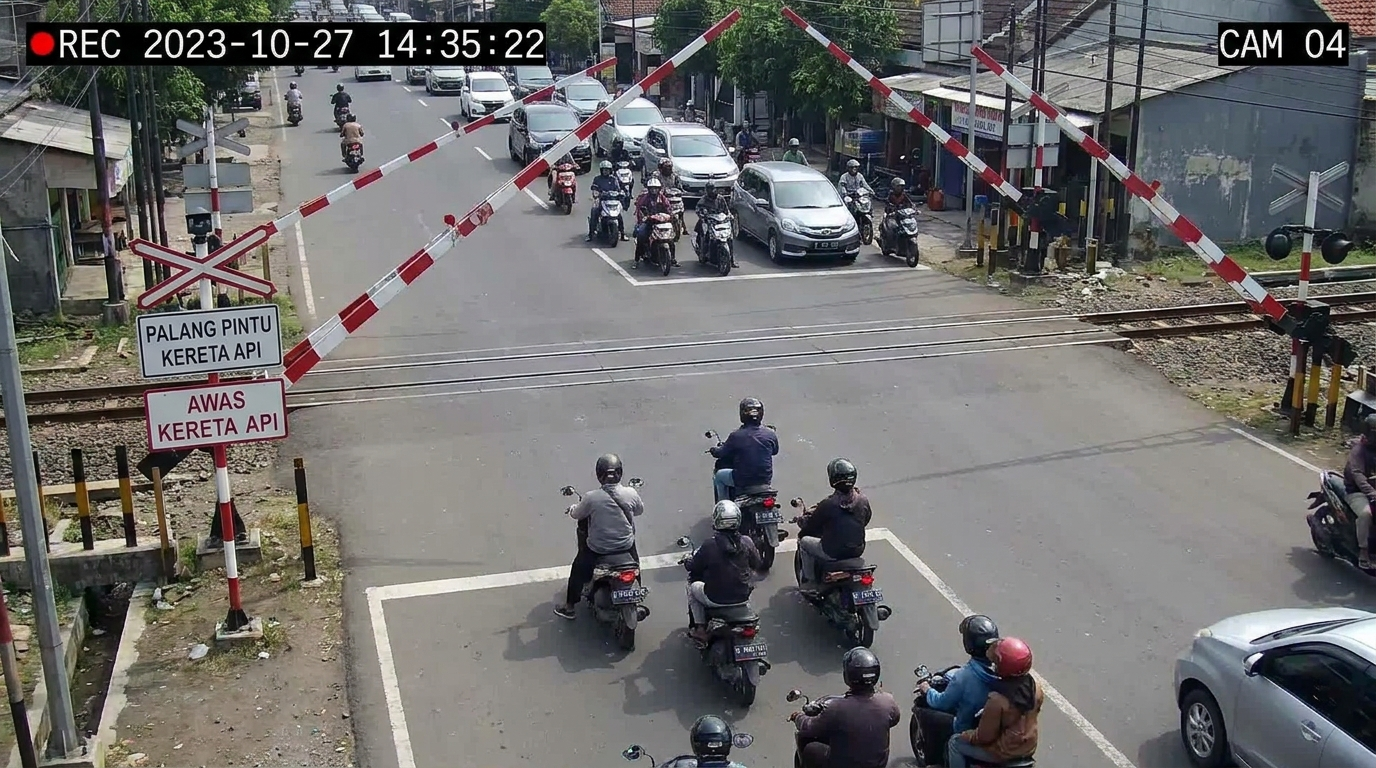safe: (279, 8, 740, 386), (974, 48, 1284, 319), (783, 9, 1021, 202), (265, 118, 493, 234), (1130, 178, 1292, 329), (783, 9, 916, 115), (394, 116, 494, 161)
